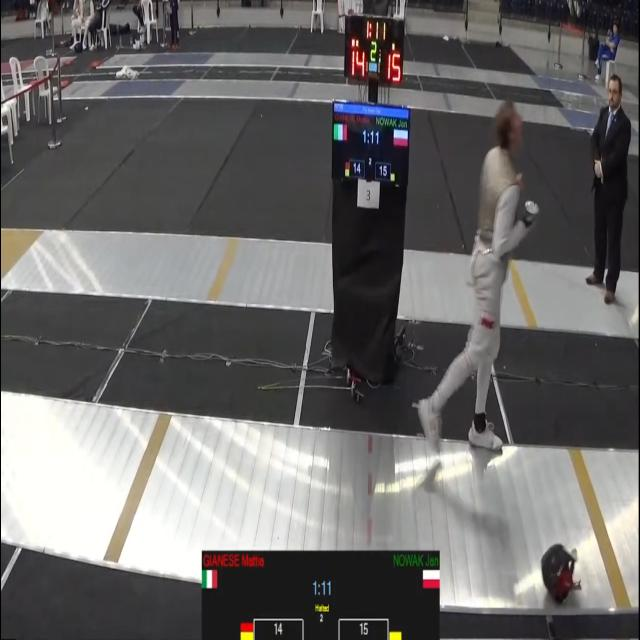fencer: (435, 95, 535, 481)
overlayLeft: (203, 551, 308, 601)
overlayRight: (334, 555, 440, 609)
scoreLeft: (260, 622, 301, 640)
scoreRight: (342, 621, 371, 640)
